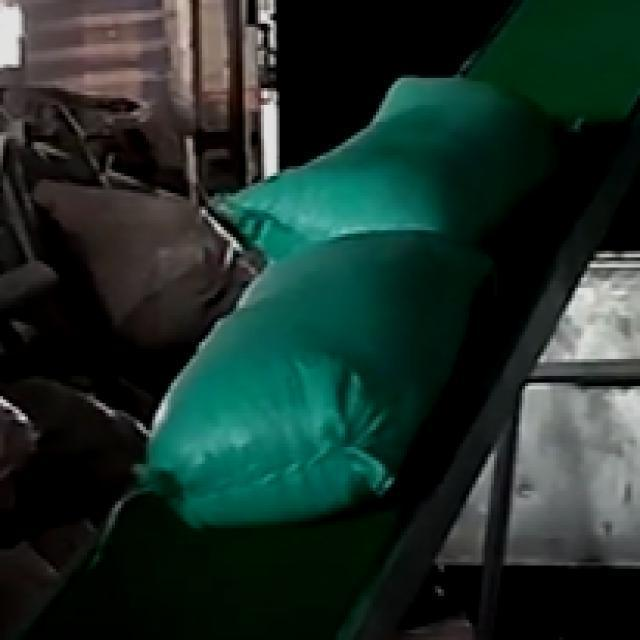gunny_bag: (149, 234, 494, 527), (214, 78, 562, 259)
